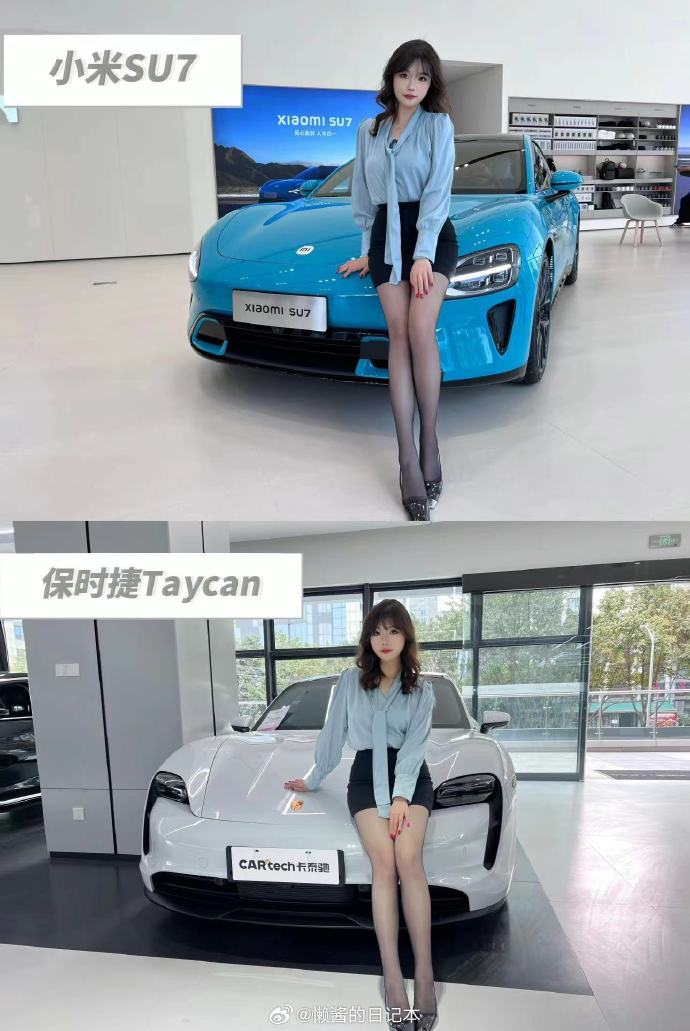other: (140, 672, 514, 938)
su7: (182, 126, 590, 400)
